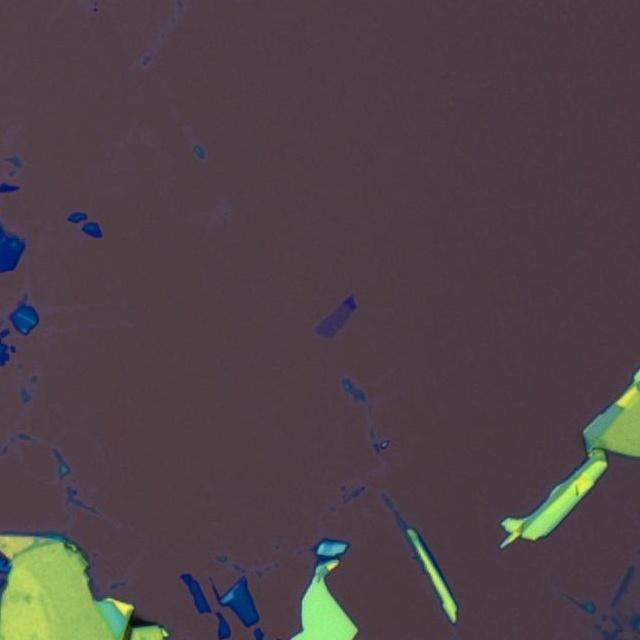monolayer-eWW4: (312, 302, 353, 341)
